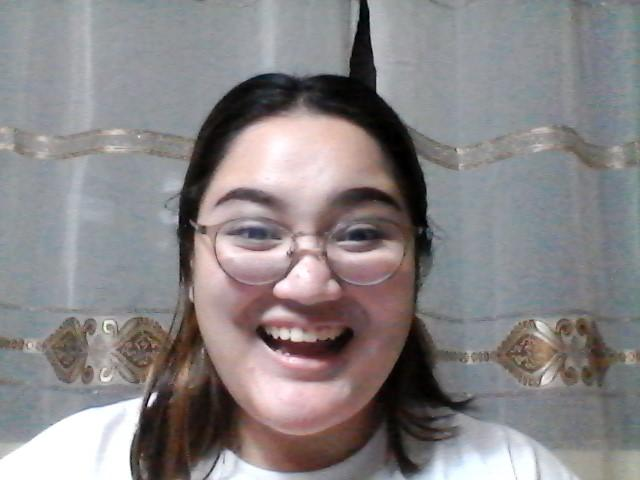senang: (193, 125, 419, 415)
